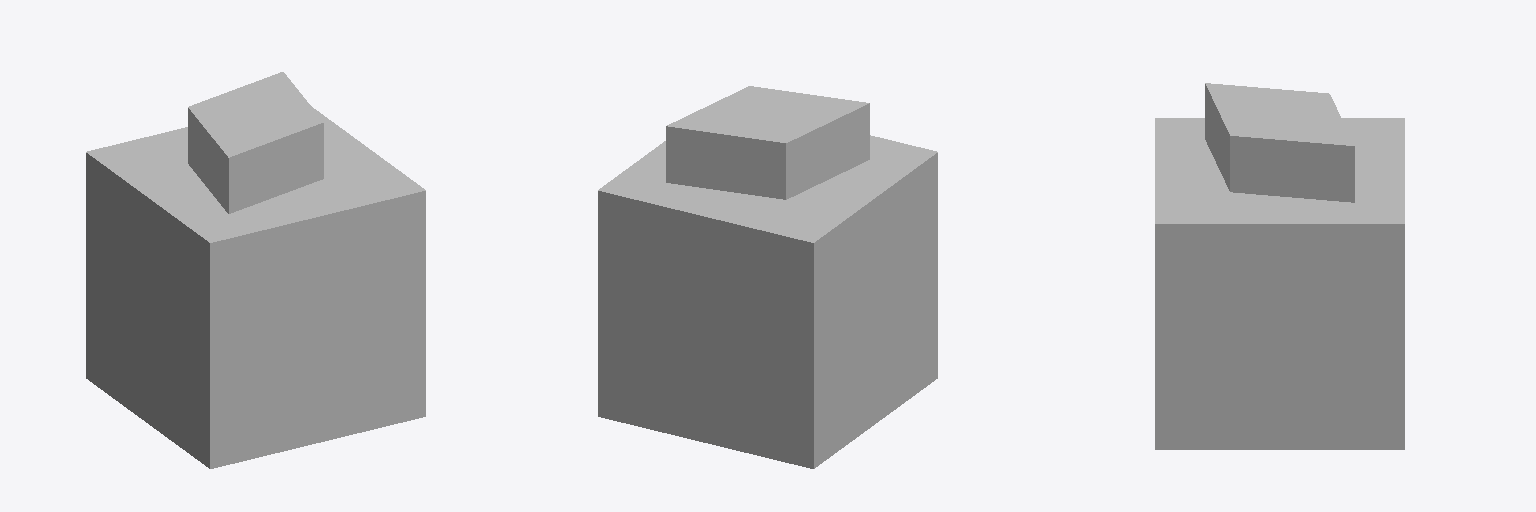
The model's file is Diamond_cube_cap_rotated45.obj.
The picture shows the model from 3 angles: view 1: azimuth 30°, elevation 25°; view 2: azimuth 150°, elevation 25°; view 3: azimuth 270°, elevation 25°; orthographic projection.
Visible parts, largest first — view 1: Cap_Cube.006; view 2: Cap_Cube.006; view 3: Cap_Cube.006.
Part boxes in pixels (x1,y1,x2,y2): Cap_Cube.006: (86,72,425,468); Cap_Cube.006: (598,86,937,468); Cap_Cube.006: (1155,83,1404,449).
Bounding box in the file's own units: 0.08 × 0.1 × 0.08.